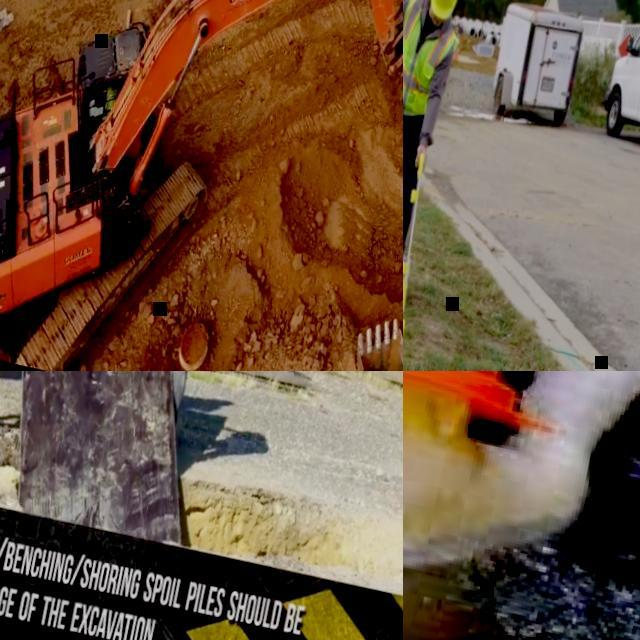helmet: (423, 0, 465, 21)
vest: (403, 0, 467, 120), (102, 88, 117, 111)
